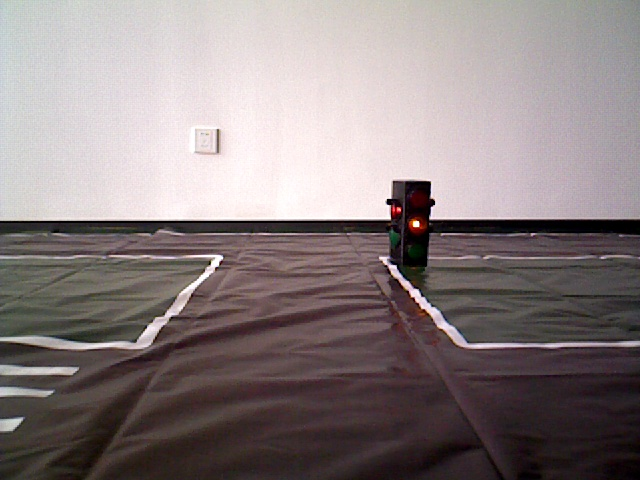yellow: (393, 179, 429, 265)
